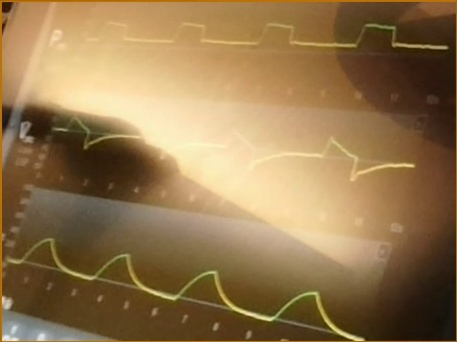Normal Flow: (54, 109, 414, 183)
Normal Volume: (10, 231, 366, 342)
